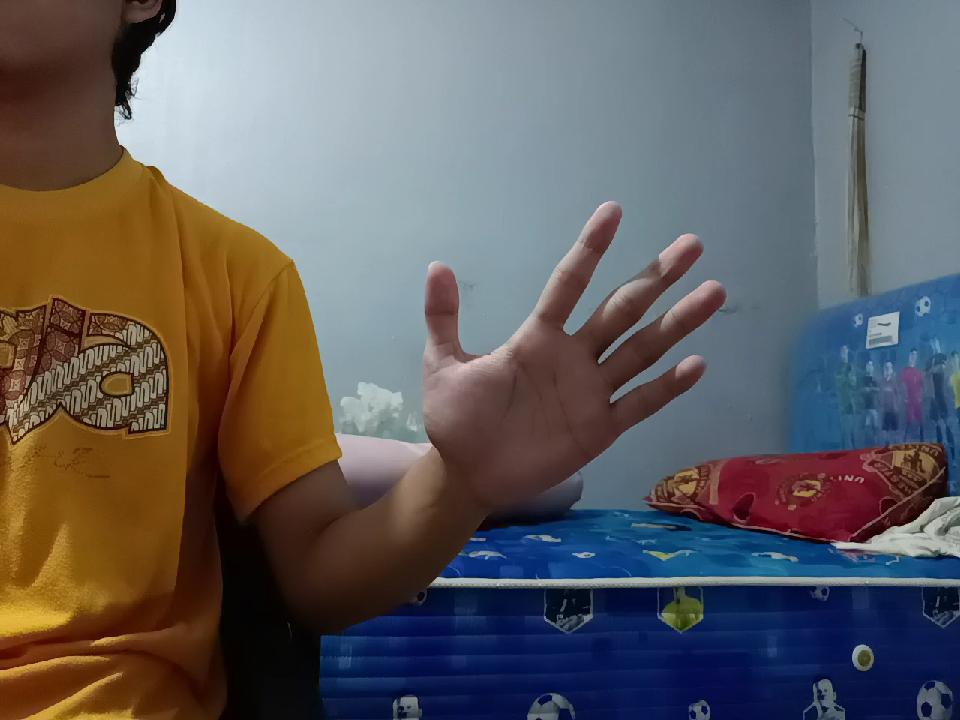paper: (398, 182, 714, 507)
